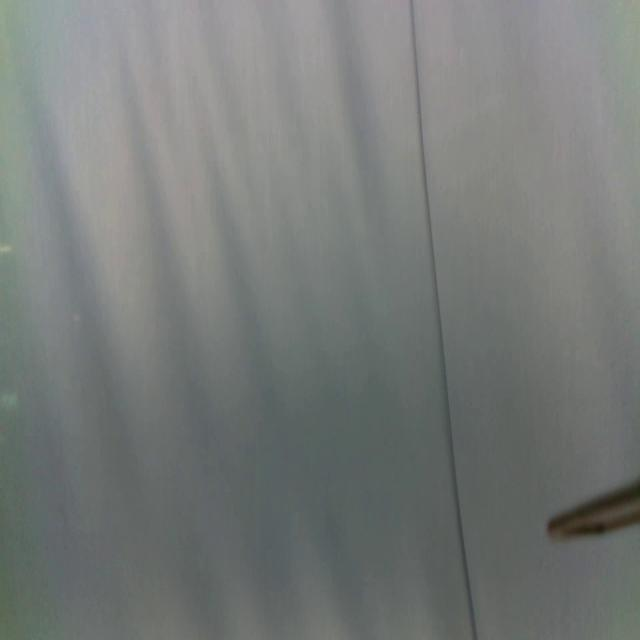crease: (412, 0, 476, 640)
